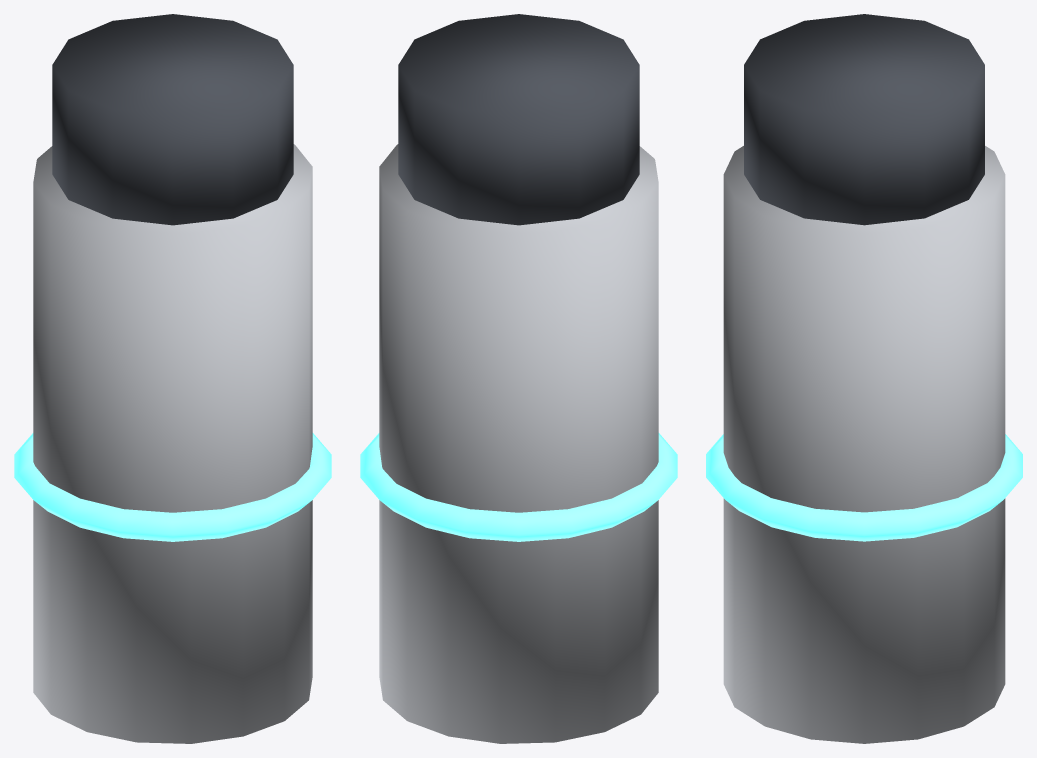
File: cup_flask.glb
3 renders of one model, left to right at view 1: azimuth 30°, elevation 25°; view 2: azimuth 150°, elevation 25°; view 3: azimuth 270°, elevation 25°, orthographic.
Parts seen in each view (by area): view 1: GD_cup_flask__m0, GD_cup_flask__m1, GD_cup_flask__m2; view 2: GD_cup_flask__m0, GD_cup_flask__m1, GD_cup_flask__m2; view 3: GD_cup_flask__m0, GD_cup_flask__m1, GD_cup_flask__m2.
Part boxes in pixels (<box>): GD_cup_flask__m0: <box>33,144,312,743</box>; GD_cup_flask__m1: <box>52,14,293,225</box>; GD_cup_flask__m2: <box>14,433,331,541</box>; GD_cup_flask__m0: <box>379,144,658,743</box>; GD_cup_flask__m1: <box>398,14,639,225</box>; GD_cup_flask__m2: <box>360,433,677,541</box>; GD_cup_flask__m0: <box>723,146,1005,743</box>; GD_cup_flask__m1: <box>744,14,984,225</box>; GD_cup_flask__m2: <box>706,434,1022,541</box>.
Size of the model in its own units: 0.08 by 0.17 by 0.0788.
